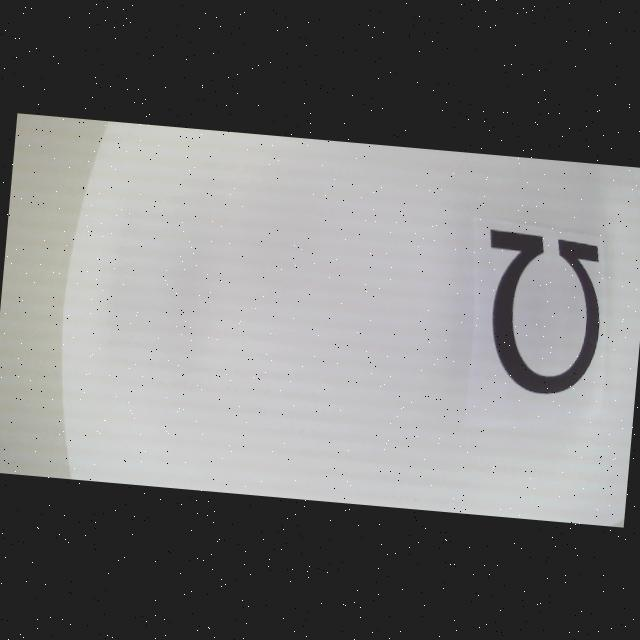OMEGA: (476, 229, 606, 398)
